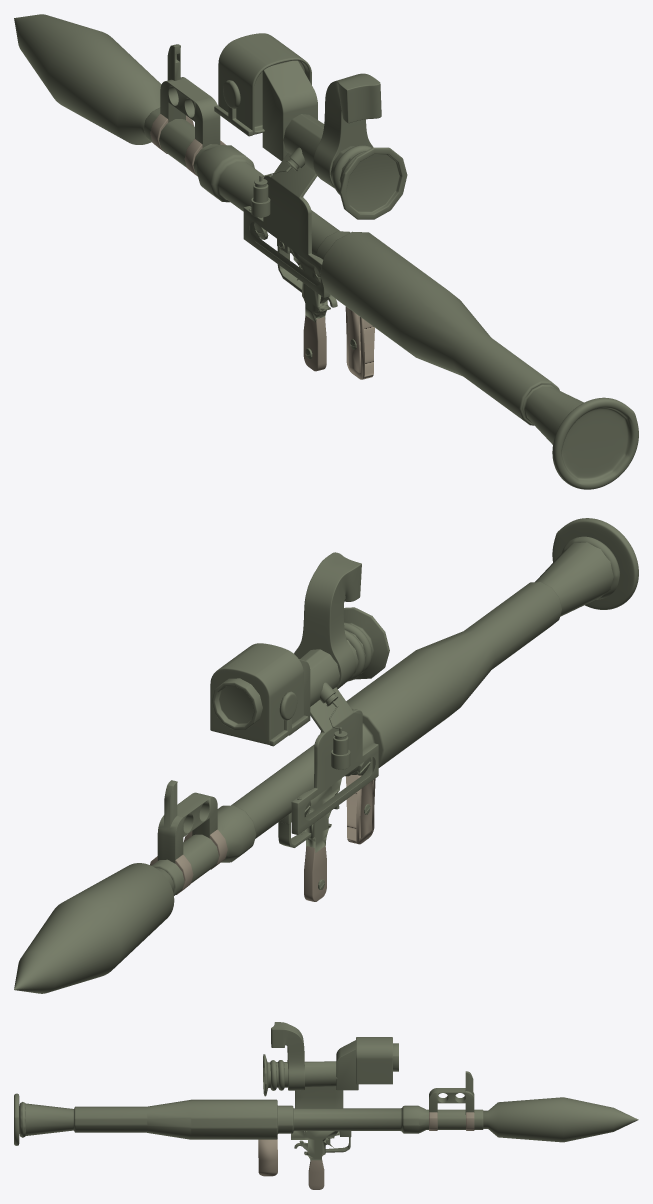
File: rpg.glb
The picture shows the model from 3 angles, top to bottom: view 1: azimuth 30°, elevation 25°; view 2: azimuth 150°, elevation 25°; view 3: azimuth 270°, elevation 25°; orthographic projection. The views are drawn at different scales.
Visible parts, largest first — view 1: Cylinder, LoadedRocket, Cylinder.002, Cylinder.010, Cube.006, Cylinder.011, Cube.008, Cube.007, Cube, Cube.004, Cube.003, Cube.002 (+1 smaller); view 2: Cylinder, LoadedRocket, Cube.008, Cube.006, Cylinder.011, Cube, Cylinder.002, Cylinder.010, Cylinder.017, Cube.004, Cube.003, Cube.002 (+2 smaller); view 3: Cylinder, LoadedRocket, Cube.008, Cylinder.011, Cylinder.010, Cube.006, Cube, Cube.007, Cube.002, Cube.004, Cube.003, Cylinder.002.
Boxes of the visible parts, x1,y1,x2,y2 form: Cylinder: (143, 107, 583, 444); LoadedRocket: (14, 14, 161, 144); Cylinder.002: (552, 397, 638, 489); Cylinder.010: (283, 114, 407, 219); Cube.006: (243, 153, 330, 297); Cylinder.011: (313, 73, 381, 188); Cube.008: (218, 33, 311, 134); Cube.007: (262, 60, 317, 161); Cube: (160, 44, 220, 147); Cube.004: (345, 306, 374, 379); Cube.003: (303, 315, 326, 371); Cube.002: (288, 247, 330, 322); Cylinder: (152, 542, 613, 895); LoadedRocket: (14, 863, 174, 993); Cube.008: (210, 643, 303, 744); Cube.006: (291, 687, 378, 834); Cylinder.011: (294, 552, 361, 688); Cube: (157, 780, 217, 863); Cylinder.002: (552, 518, 638, 609); Cylinder.010: (300, 607, 389, 706); Cylinder.017: (212, 678, 262, 729); Cube.004: (346, 774, 375, 844); Cube.003: (304, 846, 326, 901); Cube.002: (304, 778, 341, 852); Cylinder: (25, 1099, 483, 1139); LoadedRocket: (483, 1097, 638, 1142); Cube.008: (356, 1037, 392, 1084); Cylinder.011: (271, 1022, 304, 1090); Cylinder.010: (263, 1054, 337, 1096); Cube.006: (295, 1086, 343, 1108); Cube: (429, 1071, 474, 1114); Cube.007: (336, 1040, 358, 1090); Cube.002: (291, 1131, 339, 1162); Cube.004: (258, 1139, 277, 1176); Cube.003: (308, 1160, 324, 1189); Cylinder.002: (14, 1093, 19, 1145).
Bounding box in the file's own units: 0.1131 × 0.3636 × 1.24.
